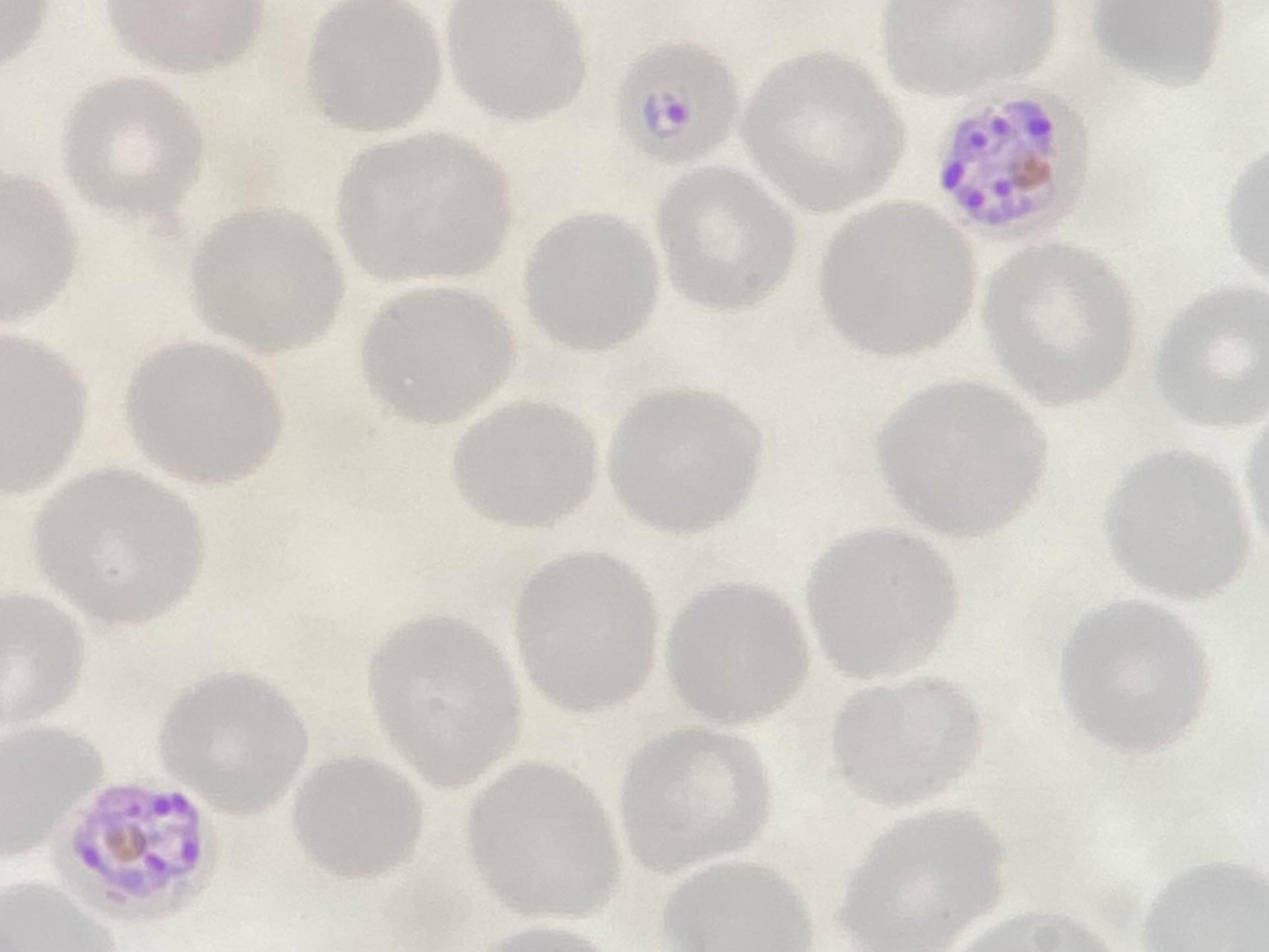Infected: (933, 82, 1090, 245), (48, 780, 217, 931), (620, 43, 736, 164)
Uninfected: (341, 128, 513, 283), (873, 386, 1043, 539), (372, 615, 516, 791), (40, 474, 201, 630), (735, 58, 900, 210), (827, 201, 980, 357), (985, 245, 1128, 410), (519, 549, 661, 714), (123, 346, 274, 492), (165, 676, 317, 819), (471, 764, 609, 921), (842, 808, 990, 952), (809, 529, 947, 683), (1060, 608, 1204, 755), (1104, 447, 1244, 596), (623, 729, 764, 876), (612, 397, 765, 531), (196, 208, 342, 345), (361, 293, 516, 420), (669, 584, 808, 725), (664, 166, 798, 311), (519, 214, 658, 345), (845, 670, 978, 806), (453, 410, 595, 526), (66, 80, 195, 207), (453, 0, 582, 125), (1157, 291, 1269, 429), (315, 3, 437, 129), (878, 0, 1050, 88), (293, 764, 424, 875), (660, 857, 802, 952), (0, 597, 78, 724)
